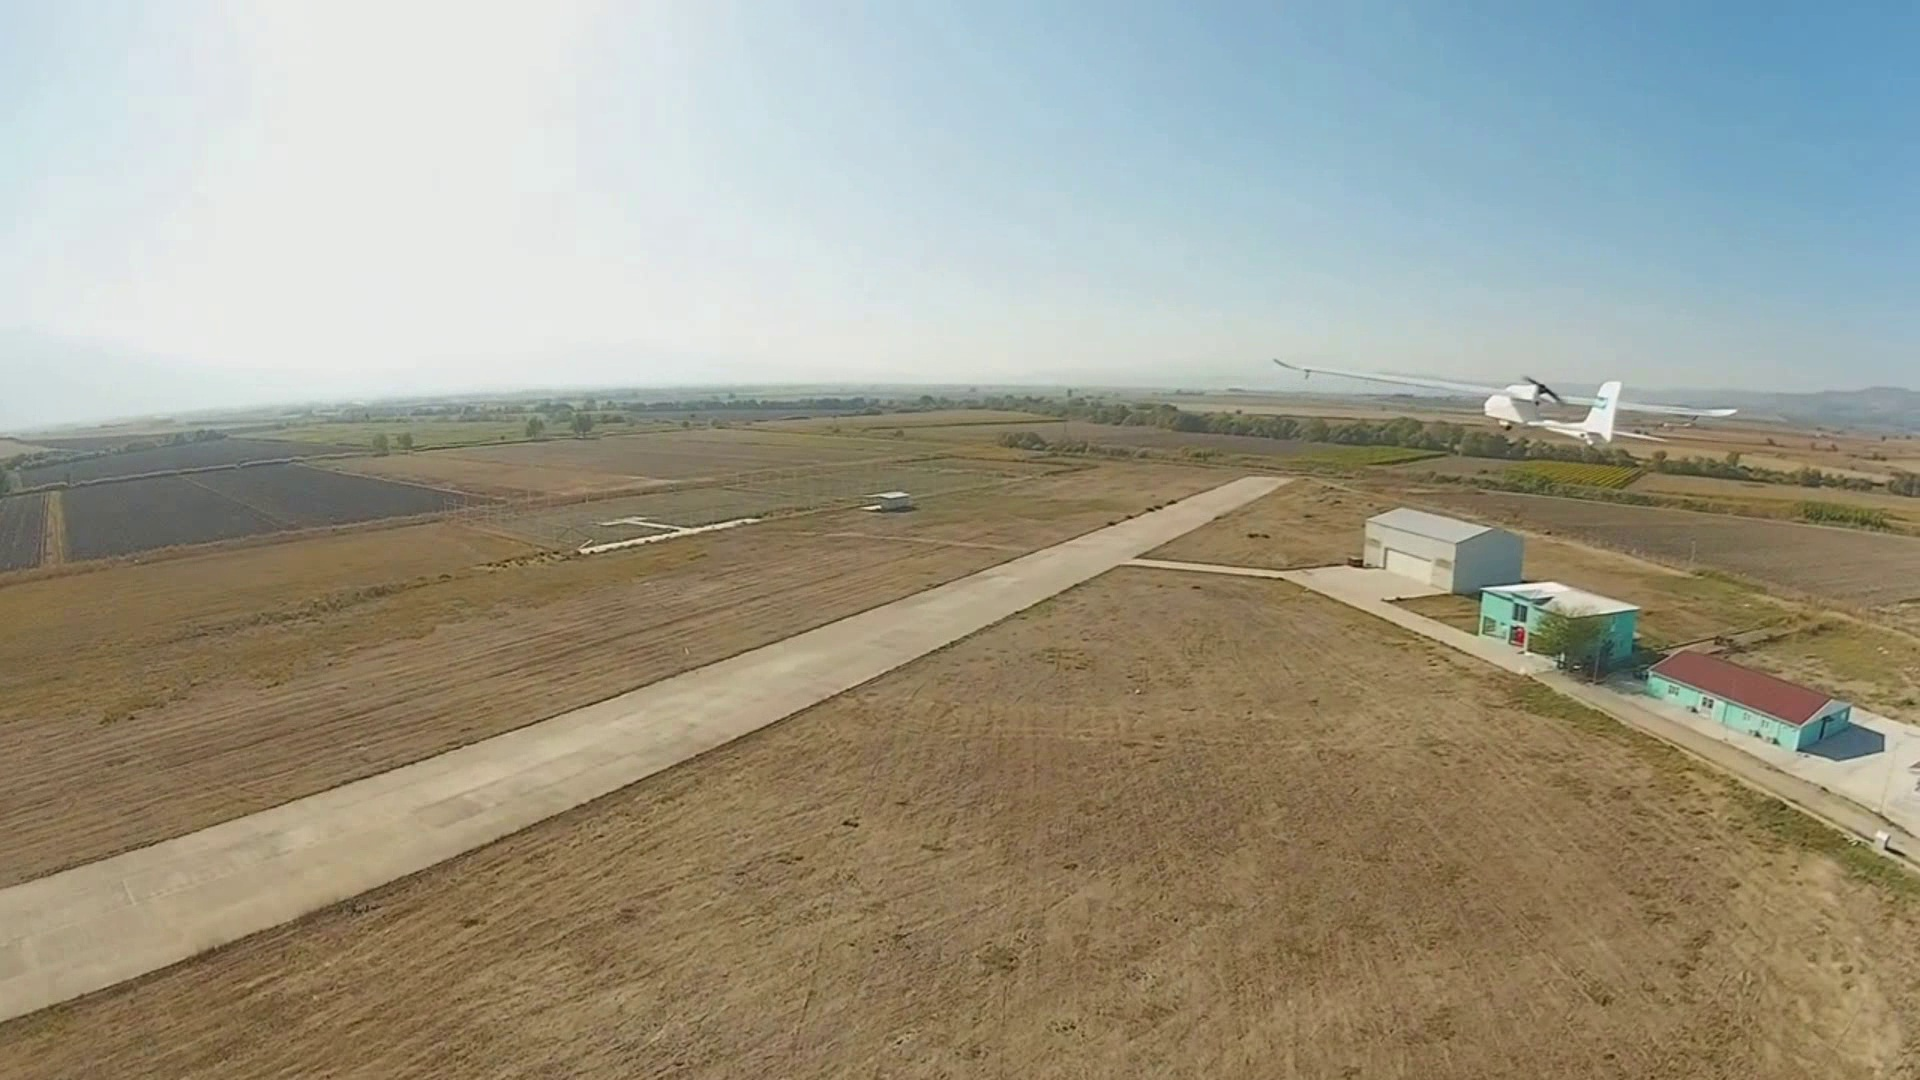airplane: (1271, 350, 1744, 448)
